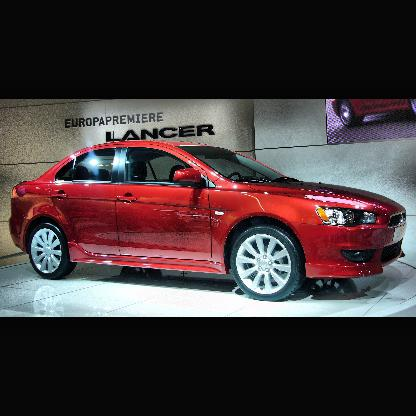Mitsubishi Lancer Sedan 2012: (9, 140, 410, 302)
